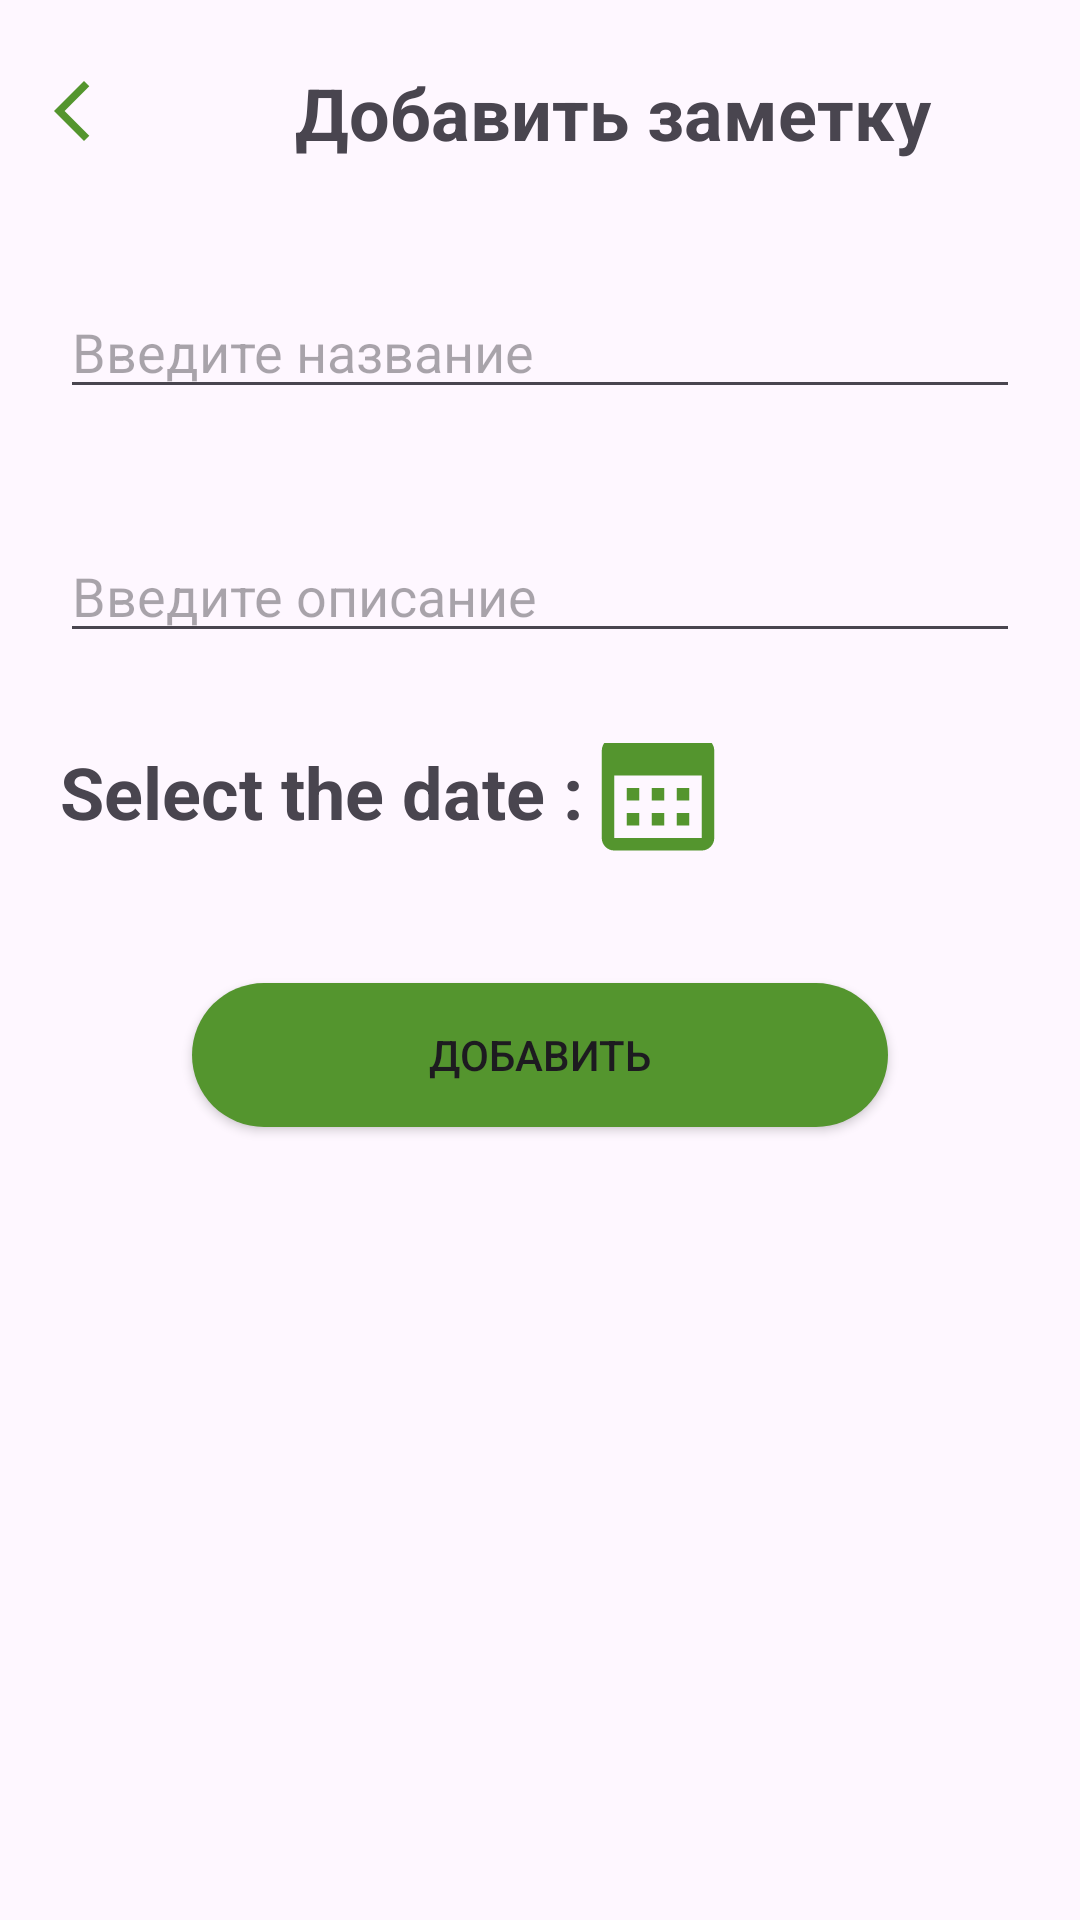

Named icons in this screenshot (1080x1920) and their centers, [x,y]:
arrow back: [71,111]
calendar month: [658,797]
